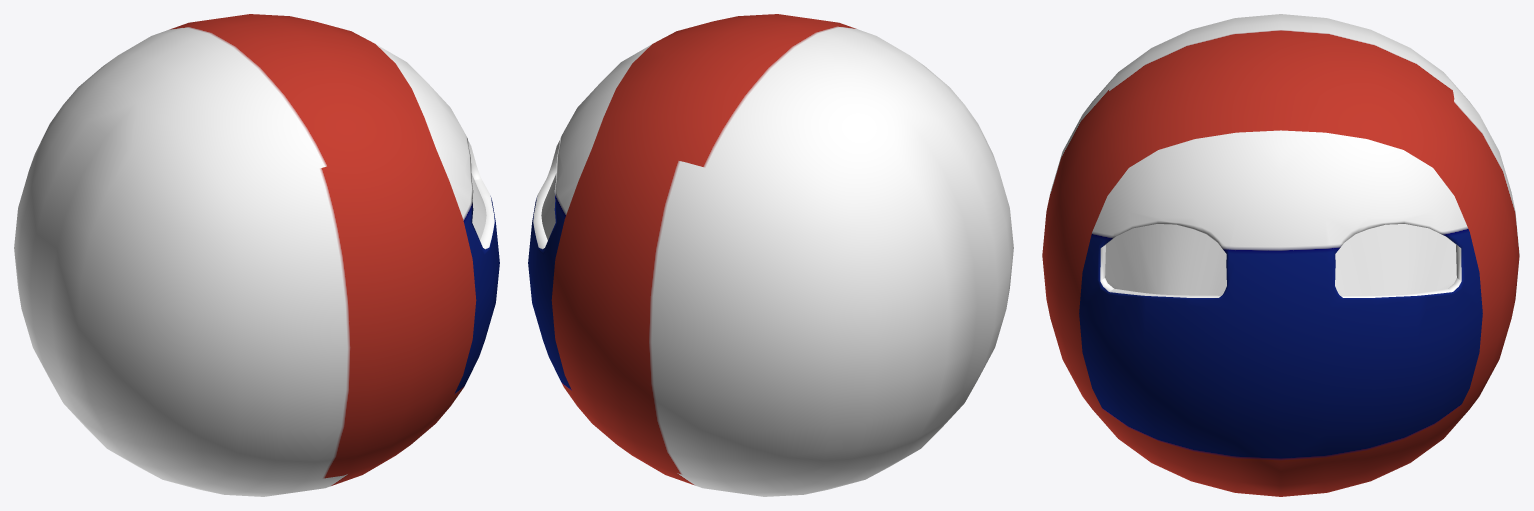
3 views of the same model, side by side, from view 1: azimuth 30°, elevation 25°; view 2: azimuth 150°, elevation 25°; view 3: azimuth 270°, elevation 25° (orthographic).
Parts seen in each view (by area): view 1: Cube.005; view 2: Cube.005; view 3: Cube.005.
Boxes of the visible parts, box(x1,y1,x2,y2) form: Cube.005: box(14, 14, 499, 496); Cube.005: box(528, 14, 1013, 496); Cube.005: box(1042, 14, 1519, 496).
Size of the model in its own units: 168 by 168 by 168.
